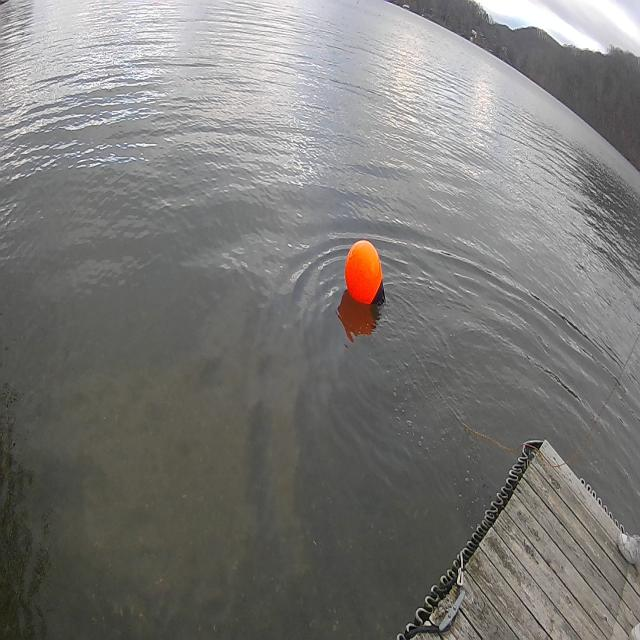Buoy: (341, 234, 391, 313)
